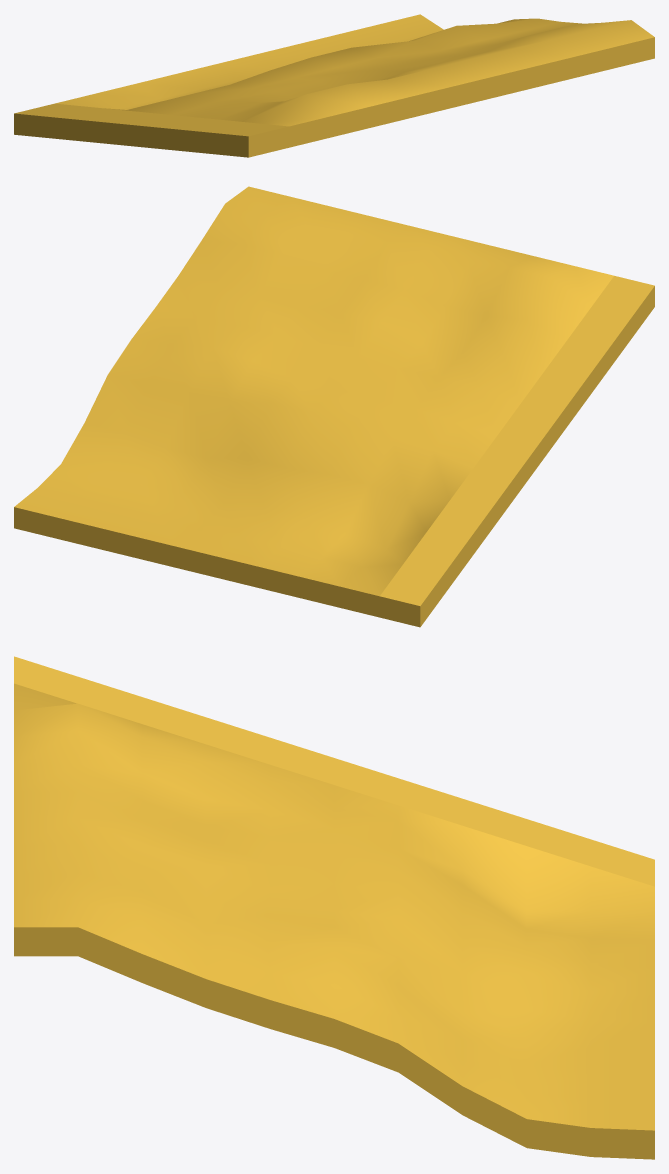
The model's file is Flach - Mitte - Hügel a - x.fbx.
The picture shows the model from 3 angles, top to bottom: view 1: azimuth 30°, elevation 25°; view 2: azimuth 150°, elevation 25°; view 3: azimuth 270°, elevation 25°; orthographic projection. The views are drawn at different scales.
Visible parts, largest first — view 1: Flach - Mitte - Hügel a - x; view 2: Flach - Mitte - Hügel a - x; view 3: Flach - Mitte - Hügel a - x.
Part boxes in pixels (x1,y1,x2,y2): Flach - Mitte - Hügel a - x: (14,14,654,157); Flach - Mitte - Hügel a - x: (14,186,654,627); Flach - Mitte - Hügel a - x: (14,656,654,1159).
Bounding box in the file's own units: 394 × 162 × 394.
